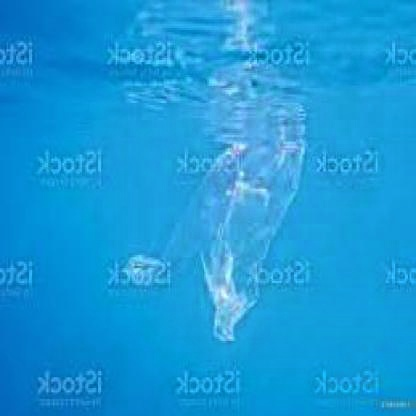pbag: (120, 133, 307, 343)
